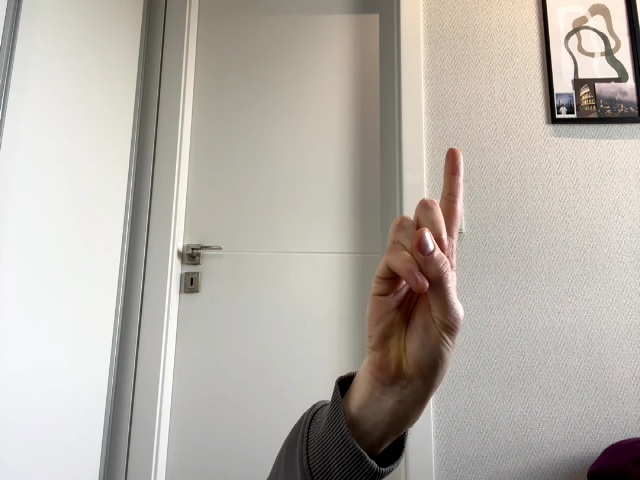Z: (367, 149, 464, 399)
